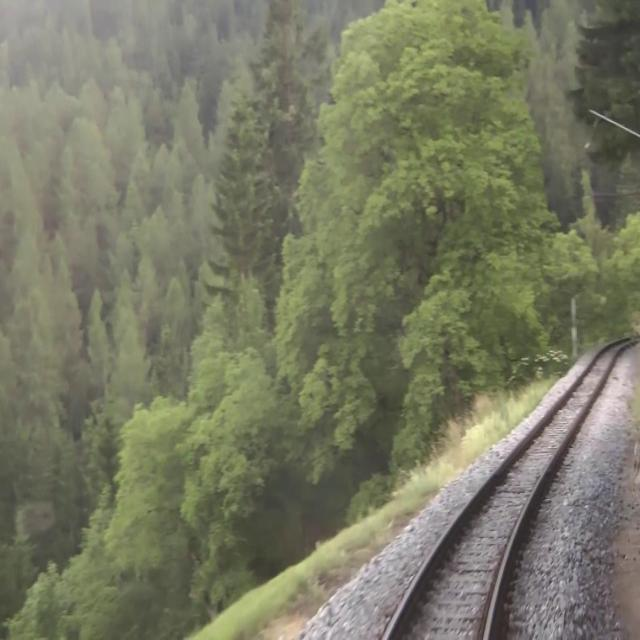rail-track: (384, 334, 636, 639)
